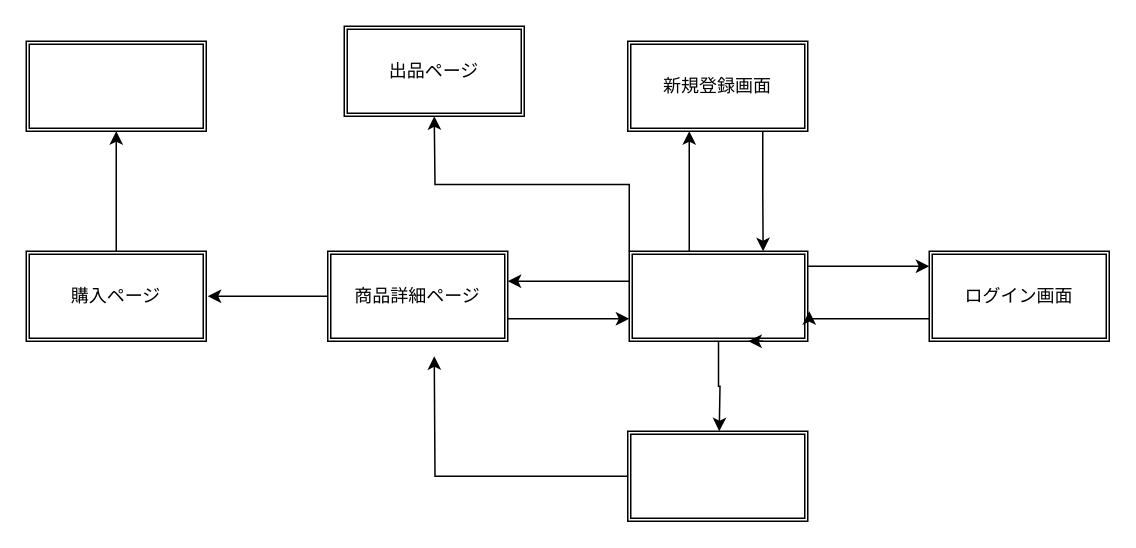
Image size: 1136x548. Some labels were removed from this diagram. The box of each missing label's shape, as (x1, y1, x2, y2) in pixels:
TOPページ: (628, 250, 808, 341)
検索後の画面: (626, 430, 808, 521)
購入者詳細登録ページ: (25, 40, 206, 131)
